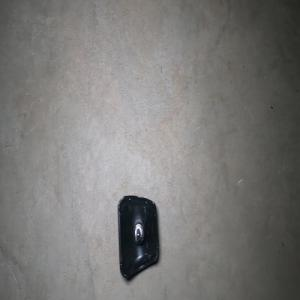LuggagePart: (117, 194, 160, 281)
